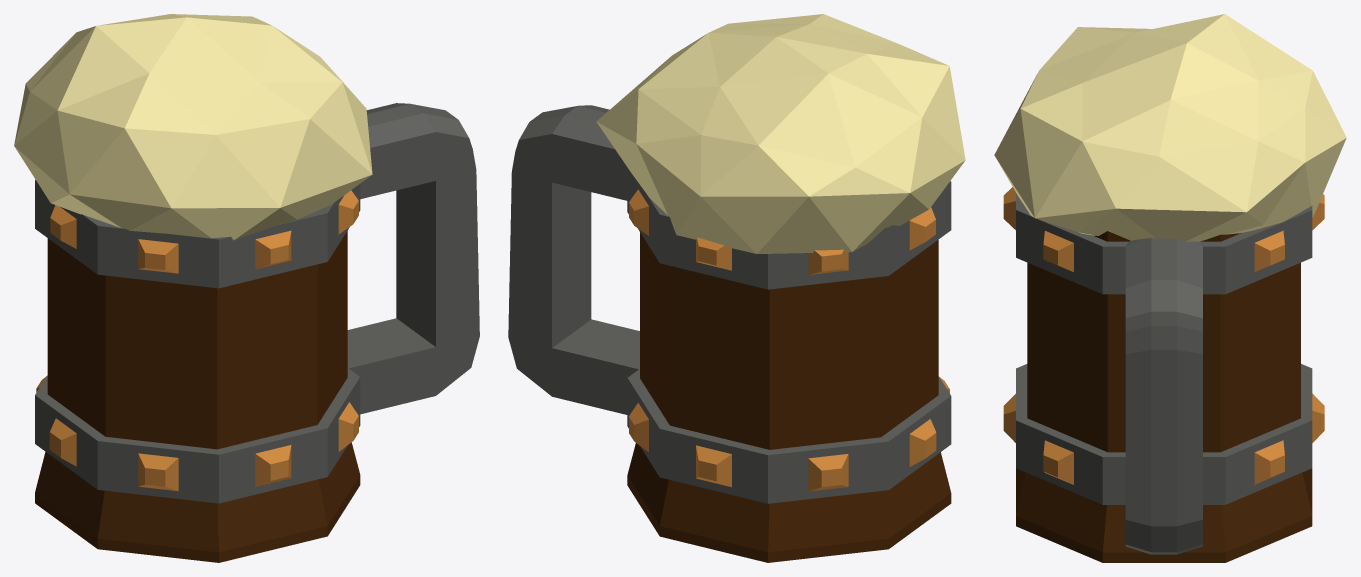
File: Beer.fbx
The picture shows the model from 3 angles, left to right: view 1: azimuth 30°, elevation 25°; view 2: azimuth 150°, elevation 25°; view 3: azimuth 270°, elevation 25°; orthographic projection. The views are drawn at different scales.
Parts seen in each view (by area): view 1: Mug, Foam; view 2: Mug, Foam; view 3: Mug, Foam.
Part boxes in pixels (bbox=[...]): Mug: bbox=[35, 103, 479, 562]; Foam: bbox=[14, 14, 372, 240]; Mug: bbox=[508, 105, 951, 562]; Foam: bbox=[596, 14, 965, 253]; Mug: bbox=[1003, 187, 1324, 562]; Foam: bbox=[994, 14, 1346, 241].
Bounding box in the file's own units: 384 × 411 × 287.
